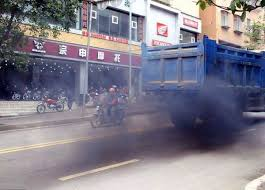smoke: (125, 92, 250, 152)
